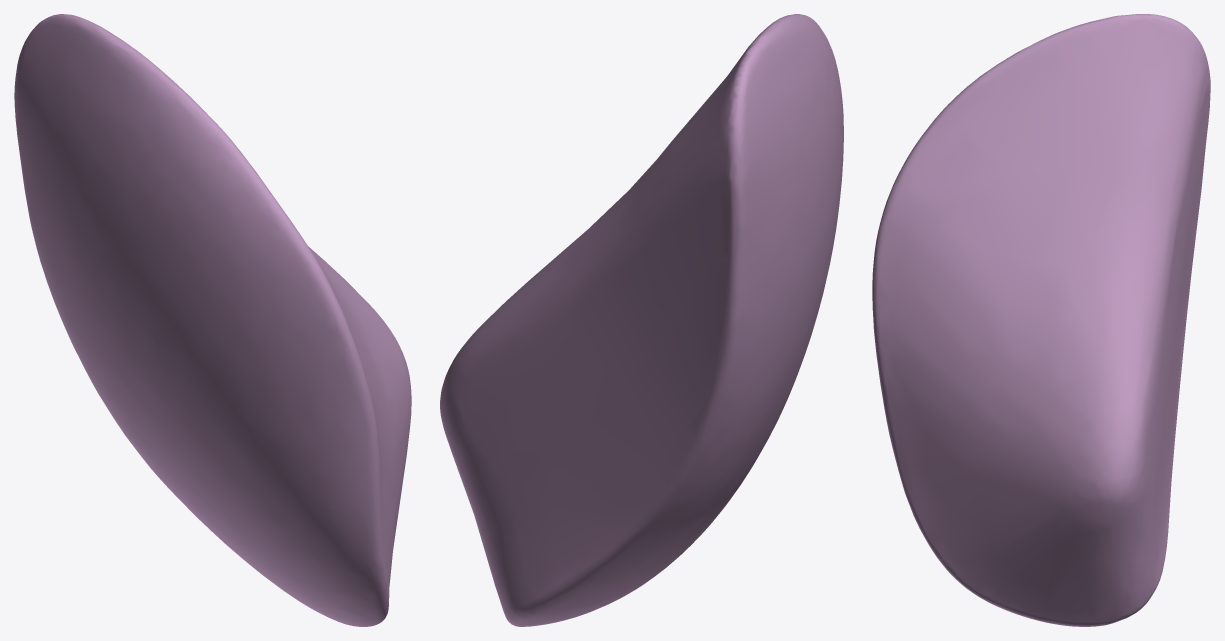
3 renders of one model, left to right at view 1: azimuth 30°, elevation 25°; view 2: azimuth 150°, elevation 25°; view 3: azimuth 270°, elevation 25°, orthographic. The views are drawn at different scales.
Visible parts, largest first — view 1: 右侧苍白球; view 2: 右侧苍白球; view 3: 右侧苍白球.
Part boxes in pixels (box(x1,y1,x2,y2)): 右侧苍白球: box(14, 14, 411, 626); 右侧苍白球: box(440, 14, 843, 626); 右侧苍白球: box(872, 14, 1210, 626).
Bounding box in the file's own units: 0.0239 × 0.0419 × 0.0247.
